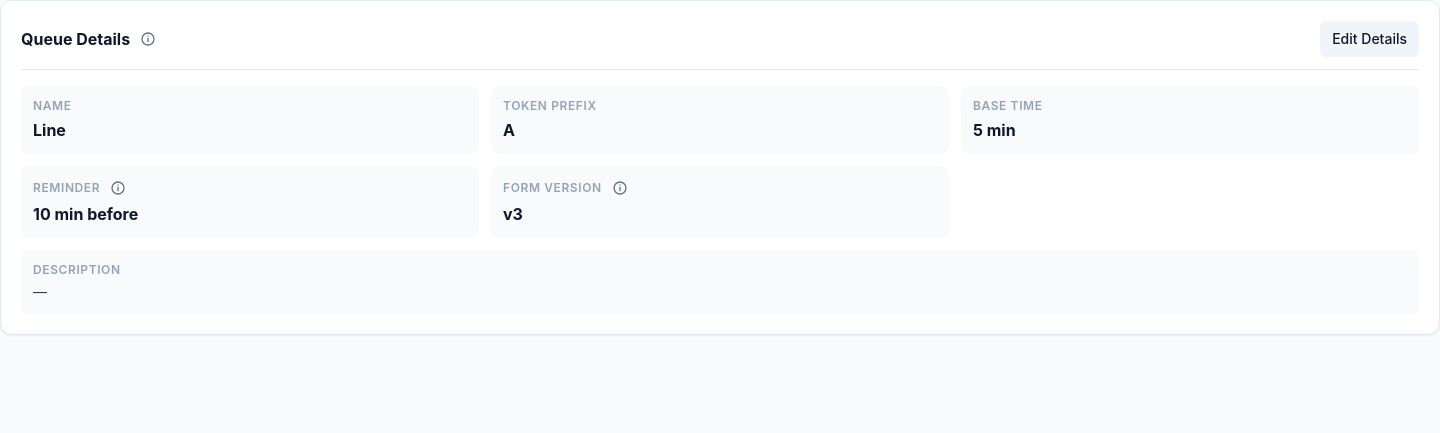
Test: QueueDetailsCard — what is shown is what can be edited › flags a non-Latin name or description and refuses to save (ADR-056)
The width and height of the screenshot is (1440, 433).
Step 1. Click the button "Edit Details" → (1370, 39), box [1320,21,1419,57]
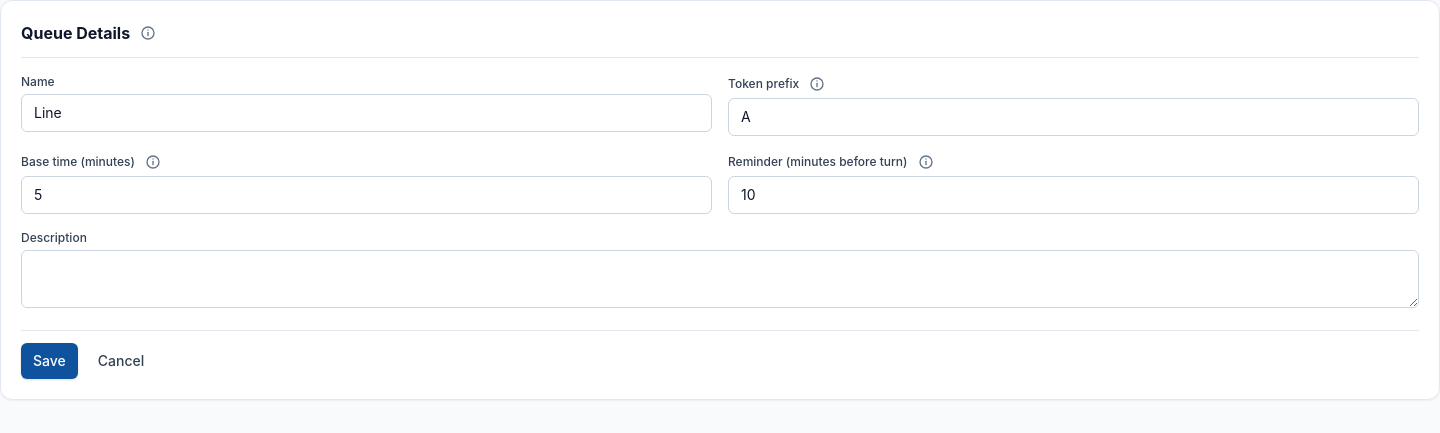
Step 2. Replace the text in the field labelled "Name" with "লাইন" → (366, 113), box [21,94,712,132]
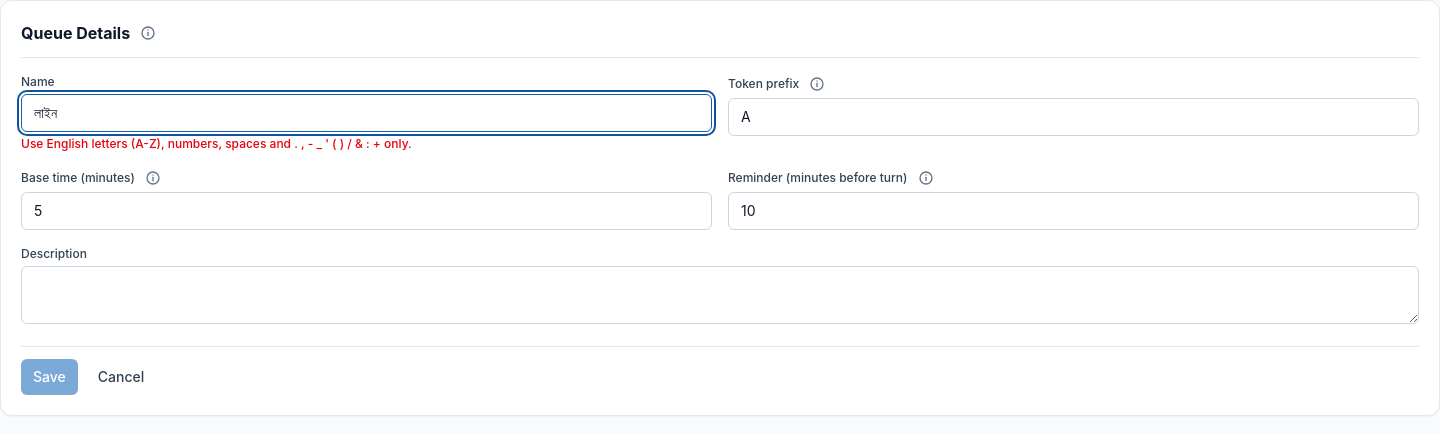
Check: the button "Save" is disabled, box [21,359,78,395]
Check: the message shows "English letters", box [21,136,412,151]
